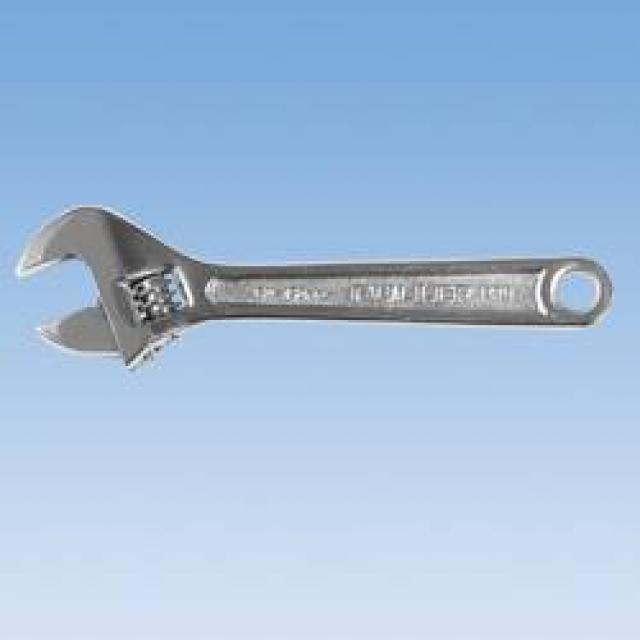wrench: (7, 195, 619, 378)
